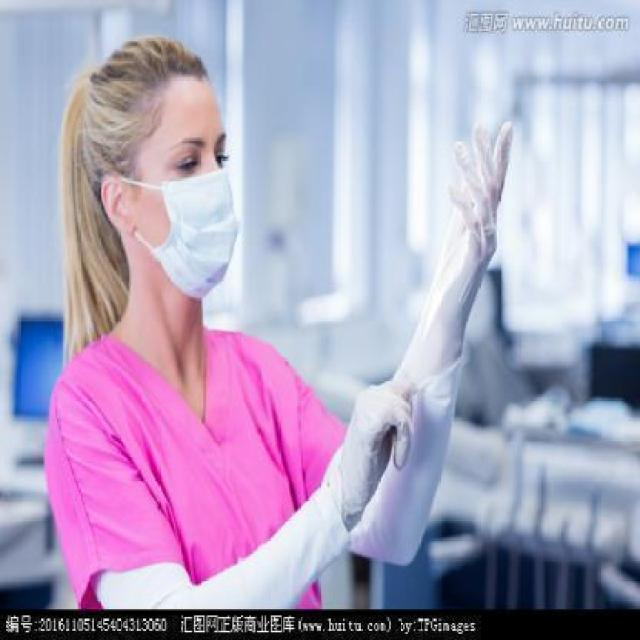face_mask: (131, 102, 249, 306)
hand_glove: (430, 118, 516, 331), (335, 377, 411, 518)
head_nohelmet: (60, 32, 234, 145)
person: (28, 16, 500, 630)
